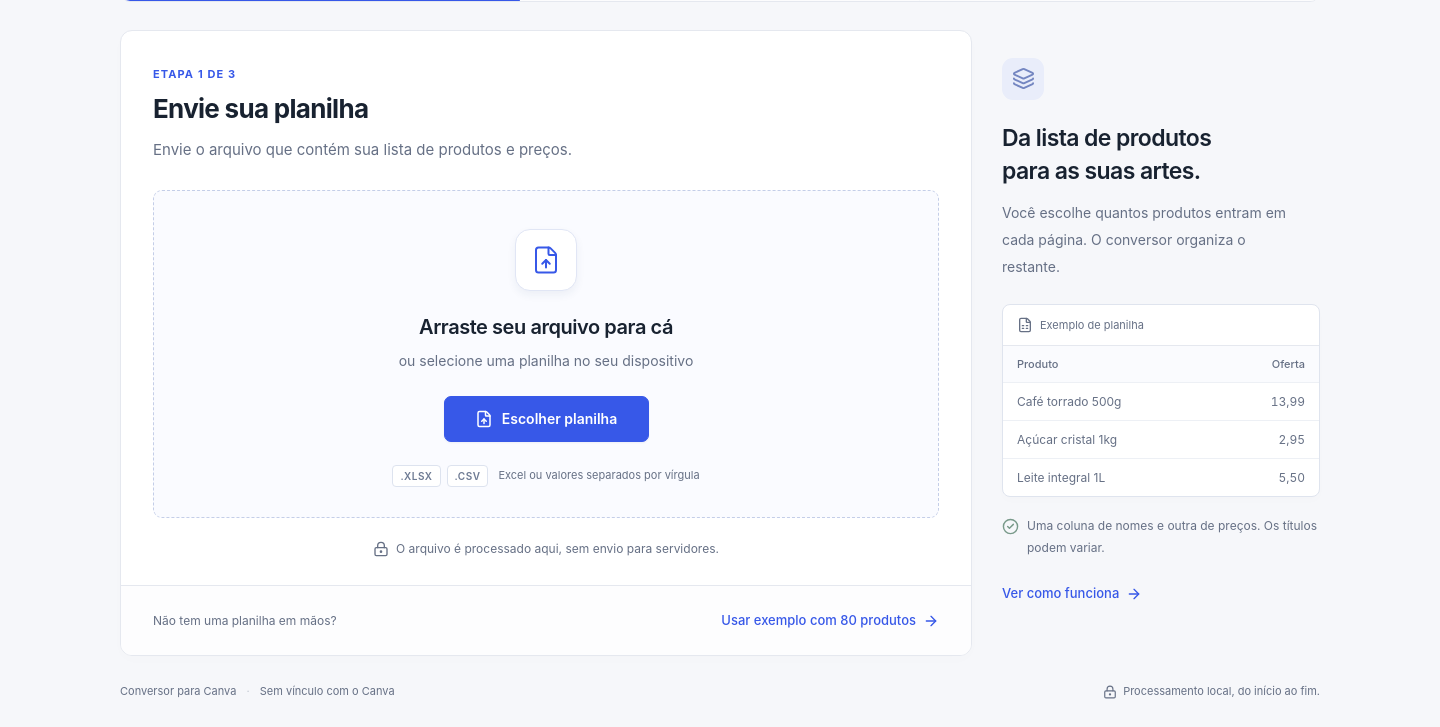
it: conversão guiada por etapas › carrega o exemplo e permite voltar e remover a planilha
(page scrolled)
Click the button "Usar exemplo com 80 produtos" at (830, 621), box left=721, top=605, right=939, bottom=636
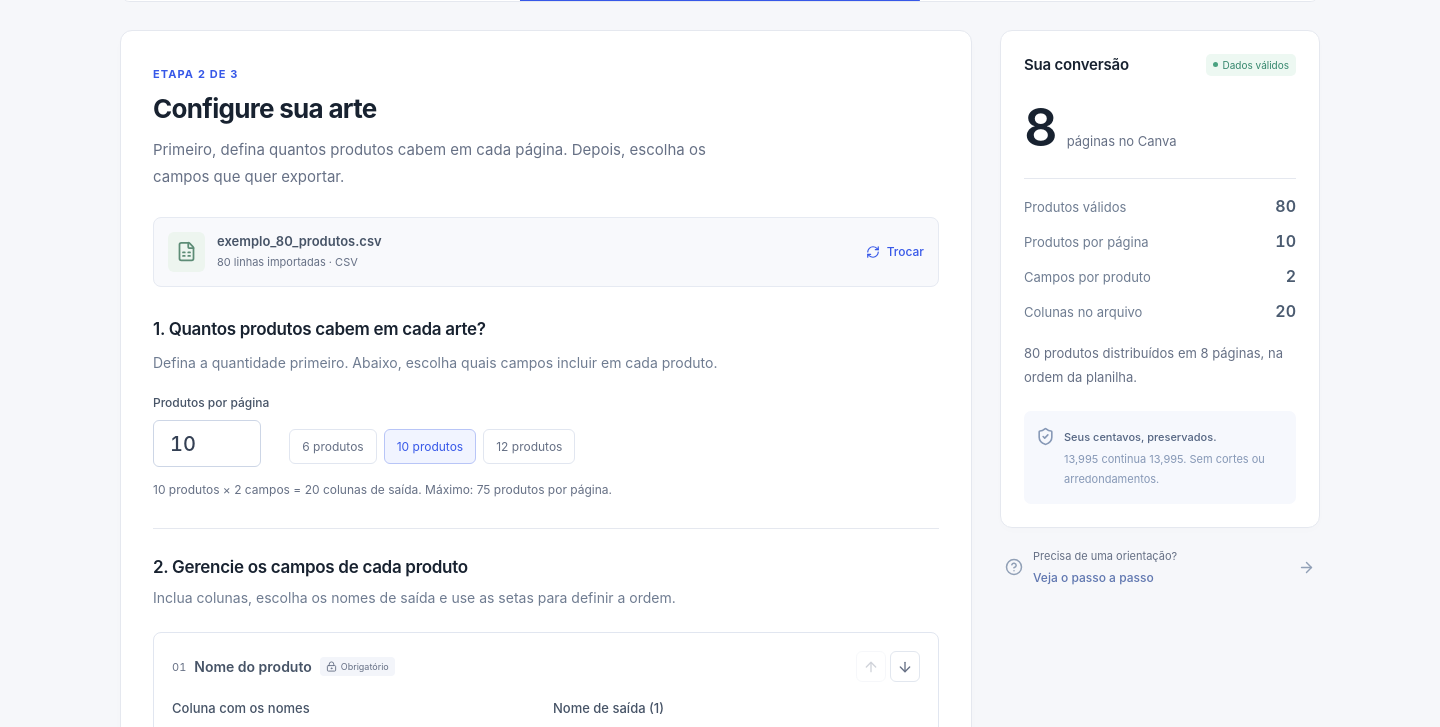
Expected: the heading "Configure sua arte" is shown, left=153, top=93, right=376, bottom=124
Expected: the text "exemplo_80_produtos.csv" is shown, left=217, top=233, right=382, bottom=249
Click the button "Trocar" at (895, 252), box left=866, top=237, right=924, bottom=266
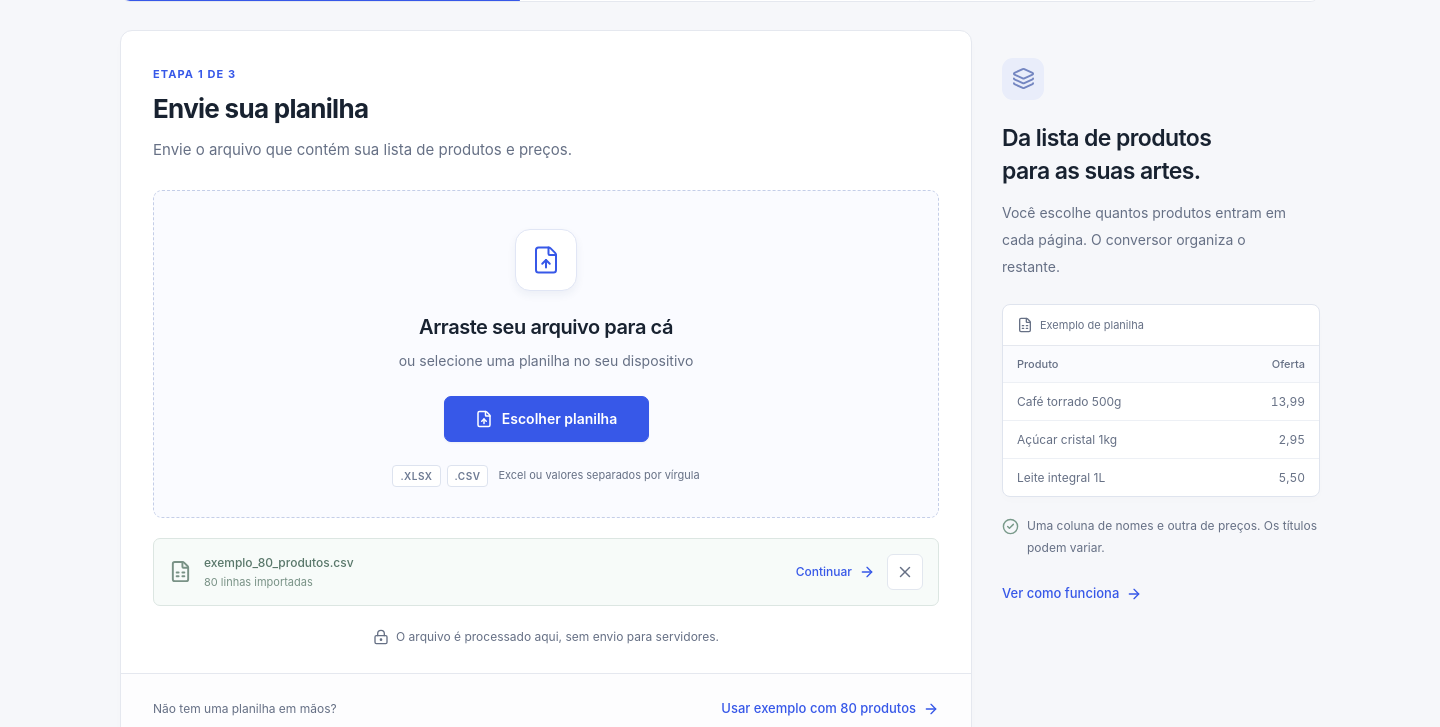
Click the button named "Remover planilha" at (905, 572), box left=887, top=554, right=923, bottom=590
(page scrolled)
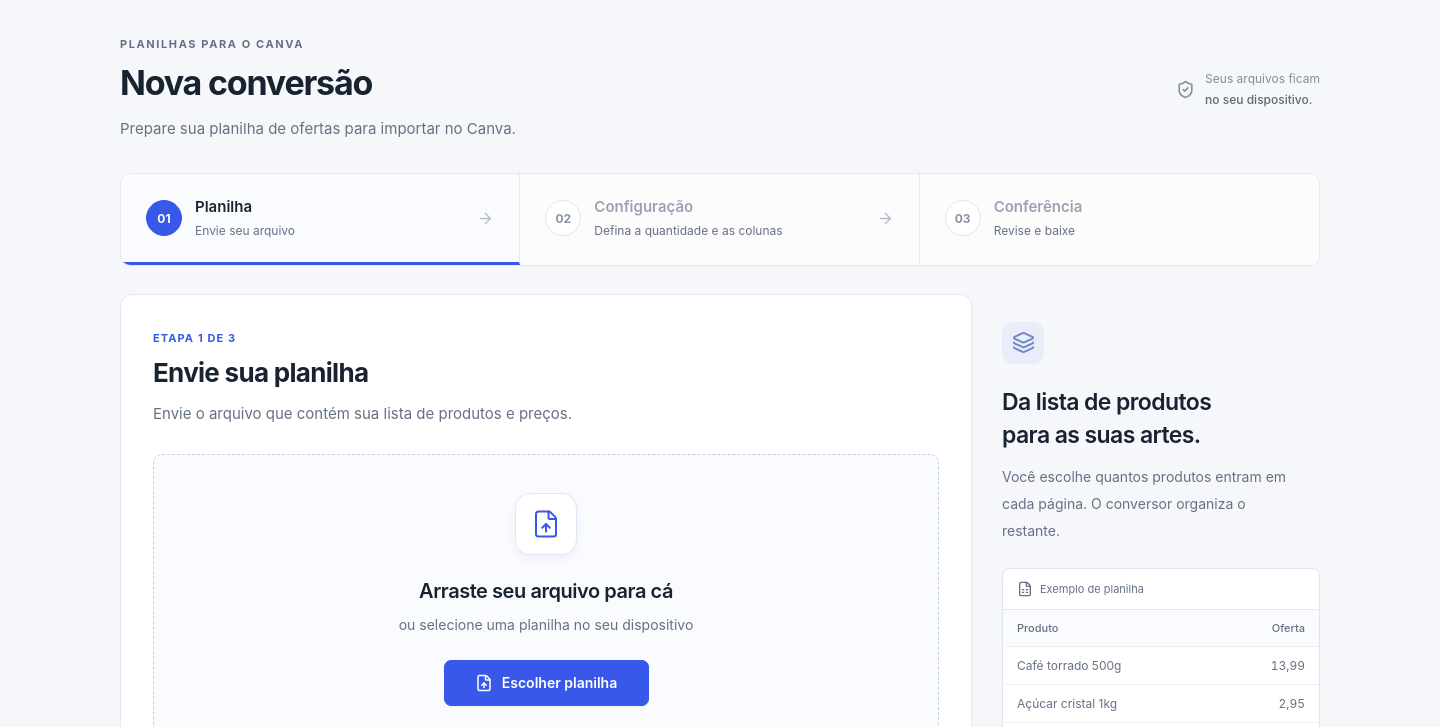
Expected: the button "02 Configuração Defina a quantidade e as colunas" is disabled, left=520, top=174, right=920, bottom=265
Expected: the button "03 Conferência Revise e baixe" is disabled, left=920, top=174, right=1319, bottom=265
Expected: the text "exemplo_80_produtos.csv" is gone
